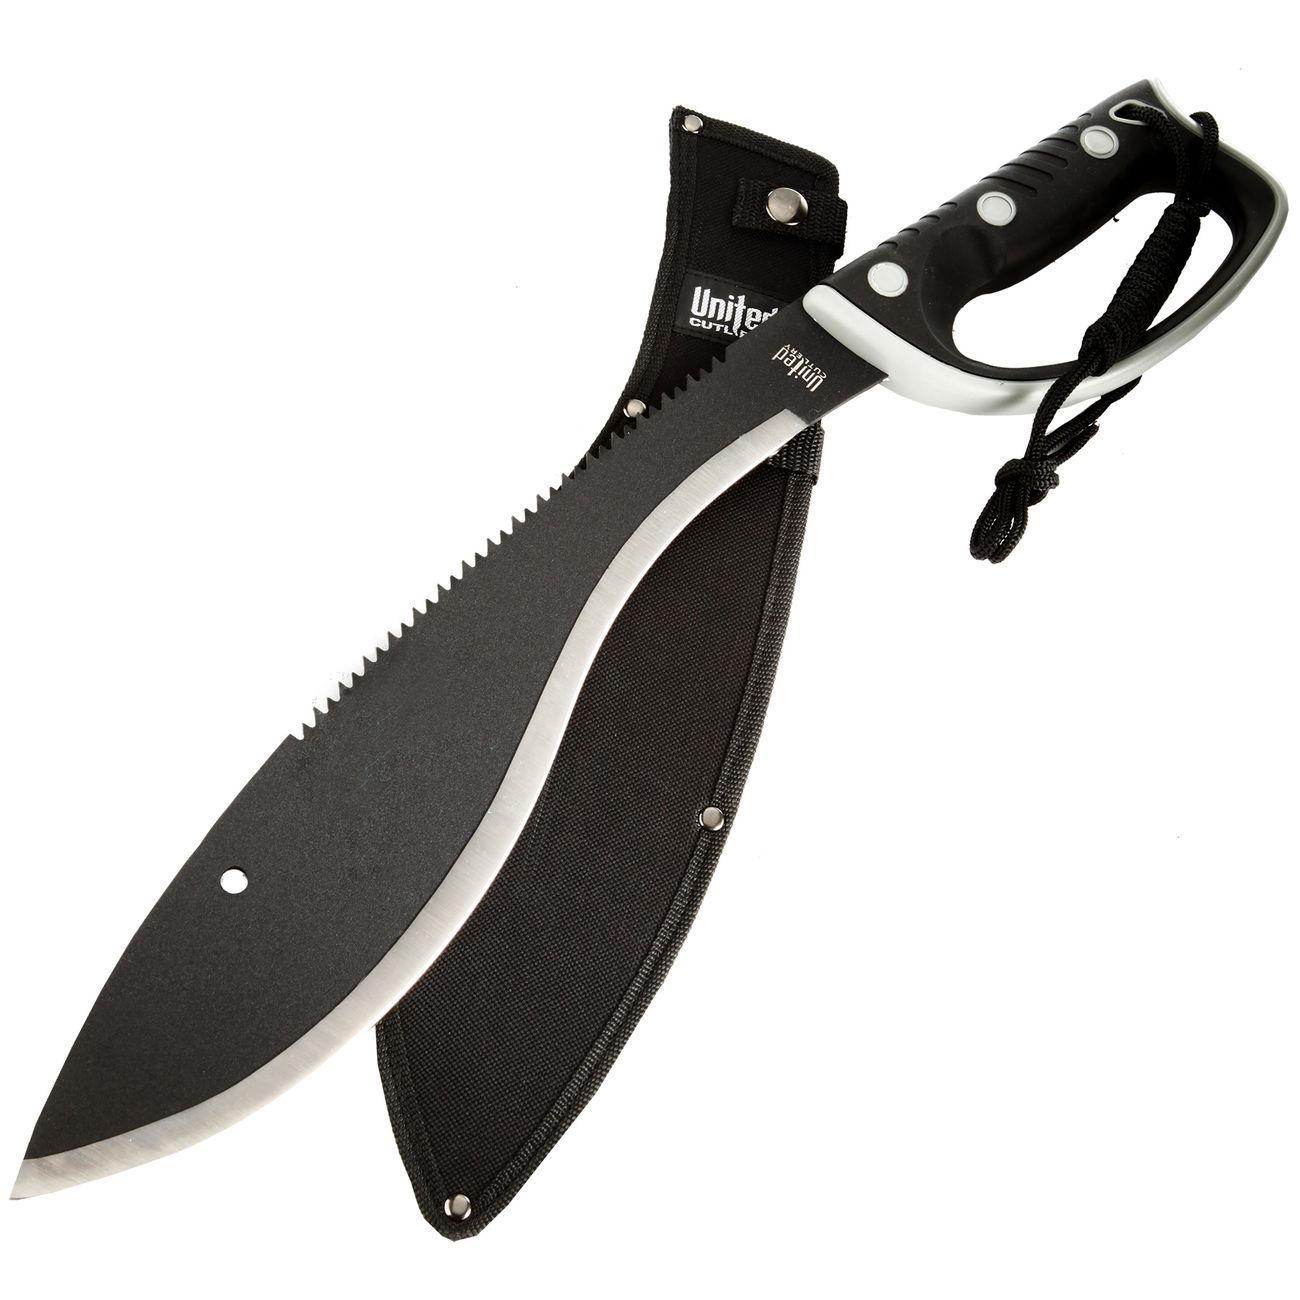facao: (0, 48, 1296, 1251)
